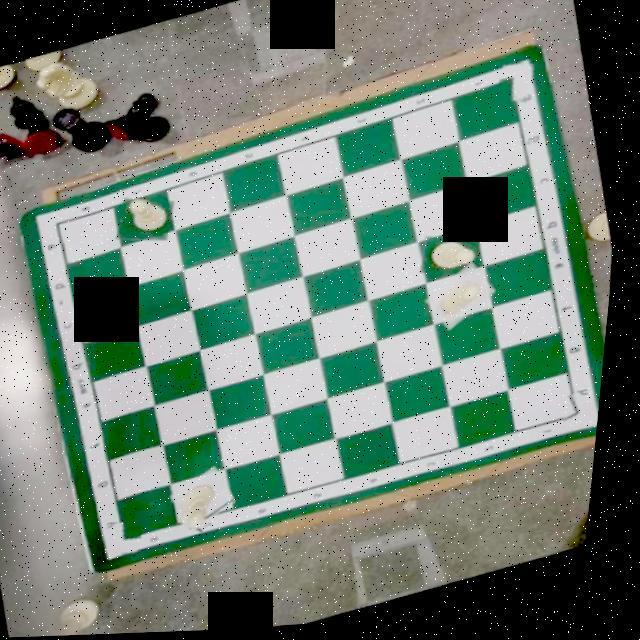chess-table-corners: (498, 64, 538, 109), (117, 524, 156, 559), (52, 207, 77, 246), (566, 399, 593, 435)
